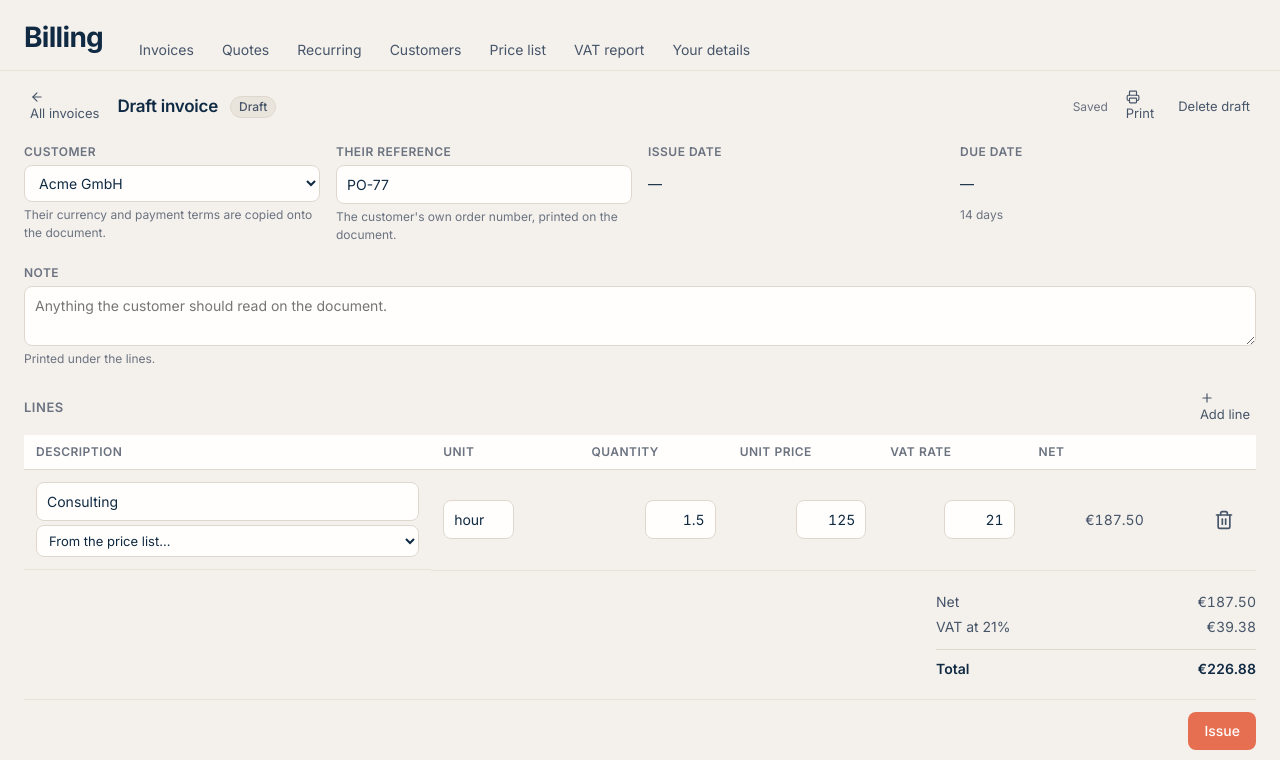
Test: the draft editor › a row that is not a line yet stops the save instead of being dropped
Expected: the text "€226.88" is shown, [1197,658,1256,678]
Click the button "Add line": (1225, 407) [1194,388,1256,427]
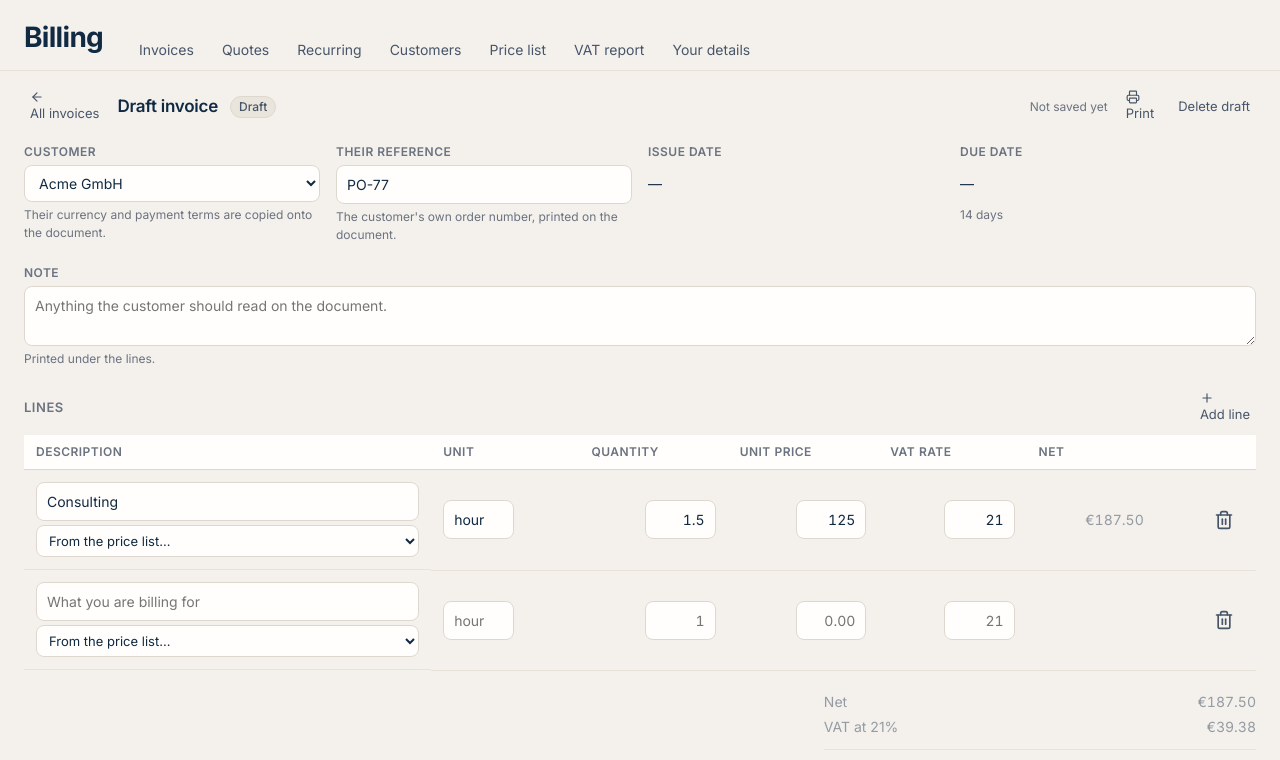
In the field named "Unit price": (831, 620) [796,600,866,640], type "50"
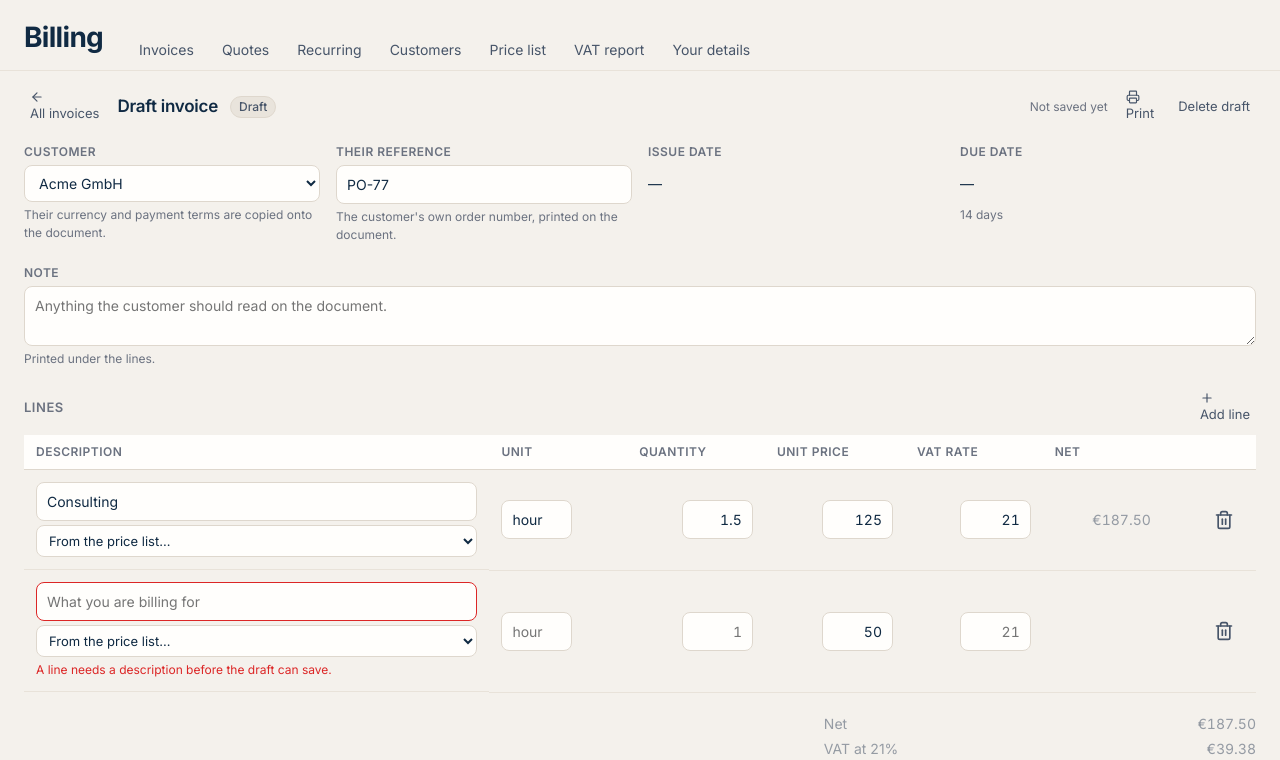
Expected: the text "Not saved yet" is shown, [1030,98,1108,116]
Expected: the text "A line needs a description before the draft can save." is shown, [36,662,332,677]
